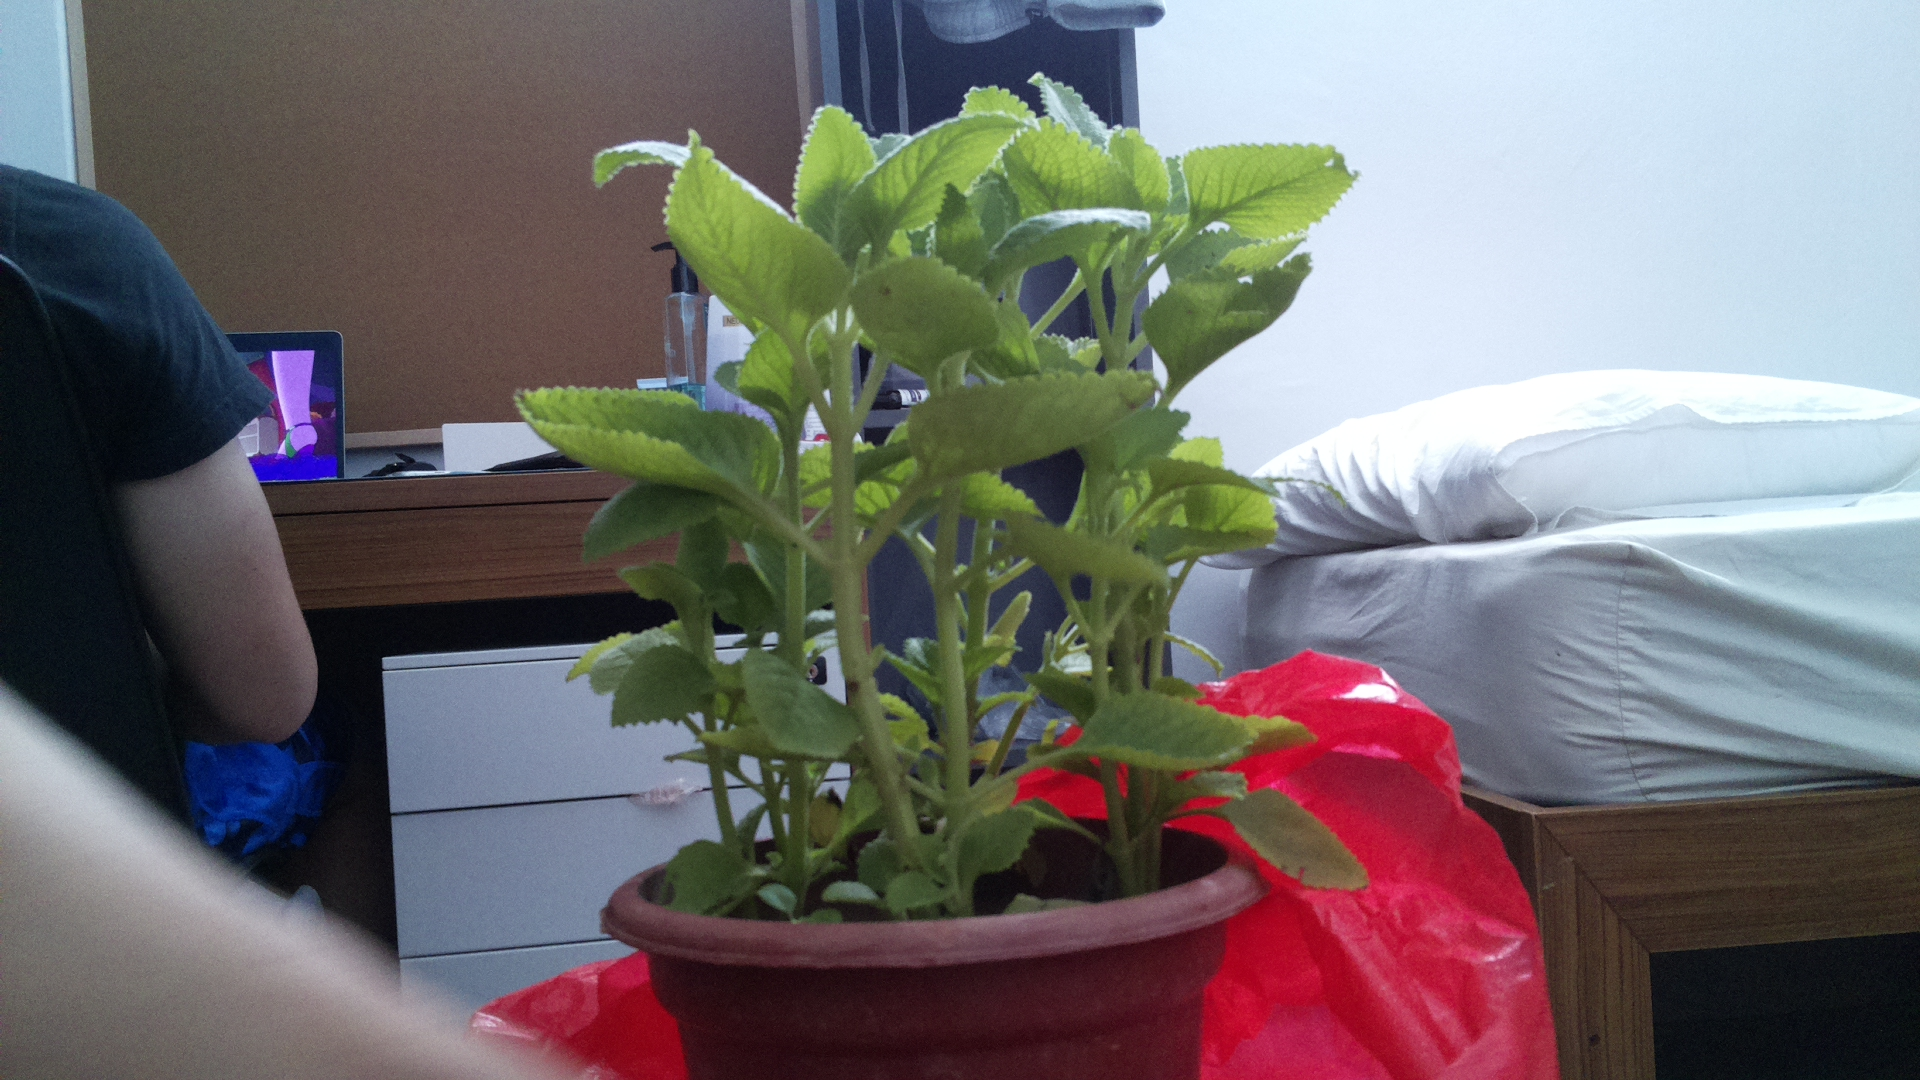leaf: (657, 135, 853, 349), (496, 373, 789, 517), (909, 367, 1155, 497), (1149, 247, 1315, 409), (855, 105, 1029, 255), (1203, 789, 1383, 903), (1064, 690, 1324, 766), (1168, 138, 1364, 233), (847, 253, 1001, 371), (1005, 117, 1145, 233), (985, 510, 1178, 593), (737, 647, 876, 762), (800, 98, 880, 245), (607, 644, 717, 741), (584, 131, 707, 190), (1021, 71, 1109, 145), (964, 807, 1036, 889)
